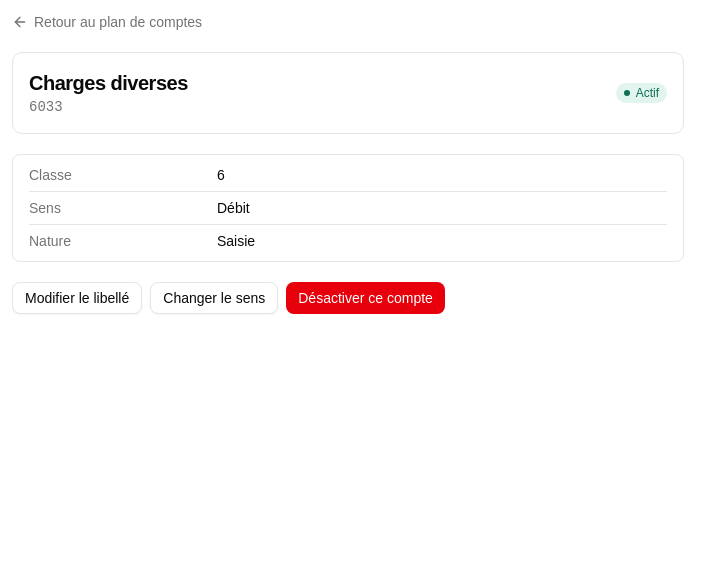
Test: PageFicheCompte › désactiver : refus garde-fou (compte mouvementé) affiché en langage humain
The width and height of the screenshot is (701, 565).
Click the button "Désactiver ce compte".
click(366, 298)  # box [286,282,445,314]
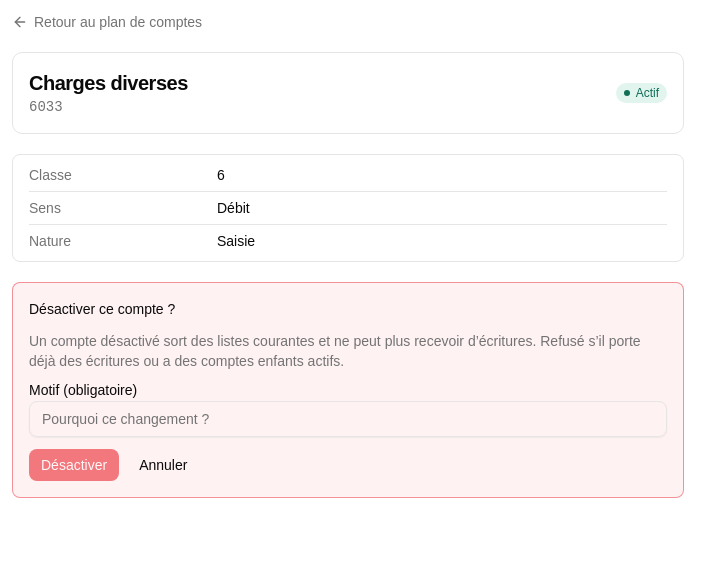
Type "Nettoyage du plan" into the field labelled "Motif (obligatoire)".
click(348, 419); type("Nettoyage du plan")  # box [29,401,667,437]
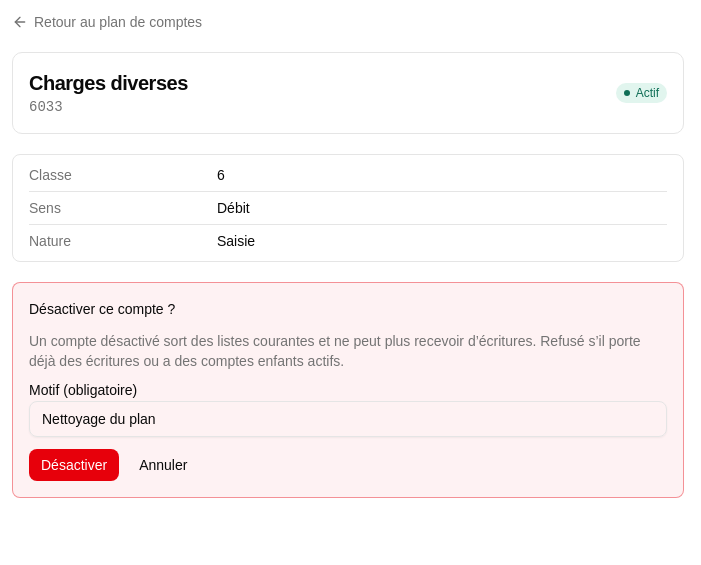
Click the button "Désactiver".
click(74, 465)  # box [29,449,119,481]
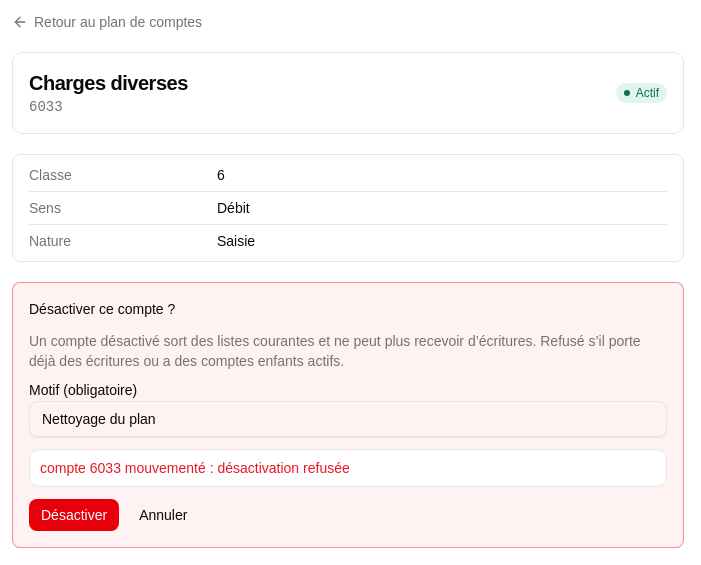
Now the text "compte 6033 mouvementé : désactivation refusée" is shown, box [40,460,350,476]
